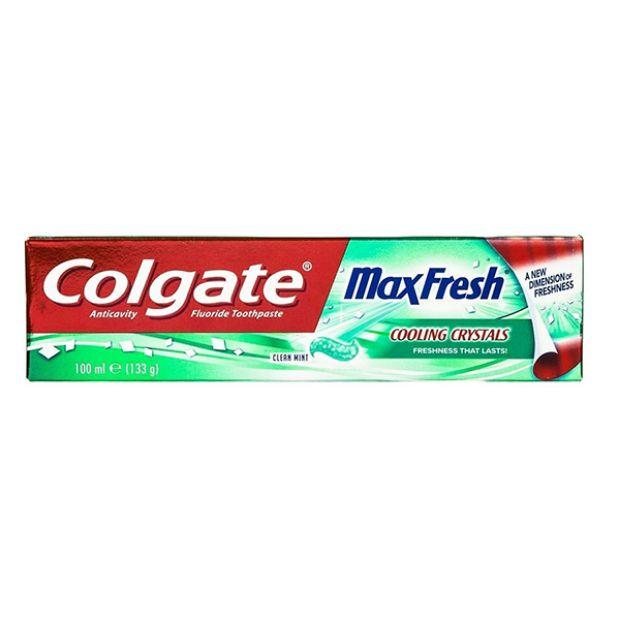toothpaste: (25, 226, 594, 390)
